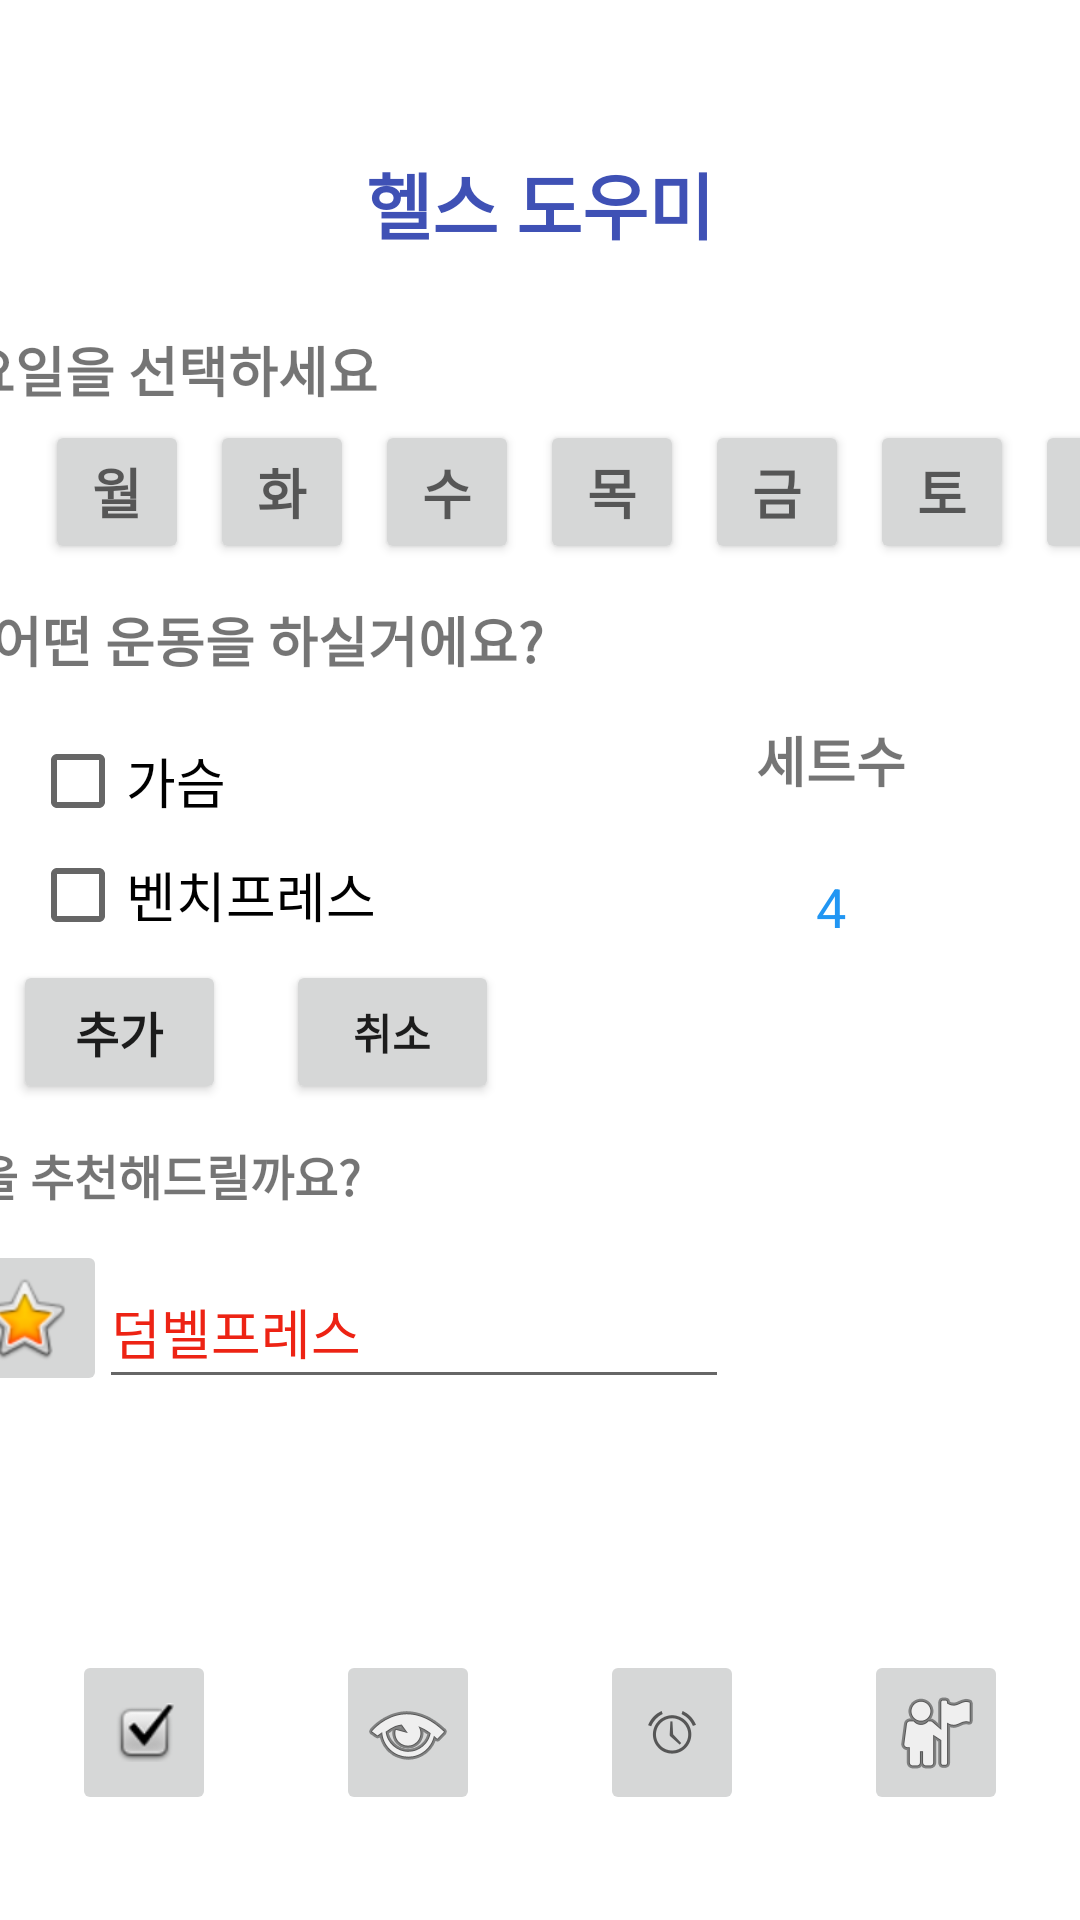

Icons on this 1080 × 1920 Android screen, each with the point to tap as point (x, y):
view: point (408, 1732)
달성률: point (936, 1732)
